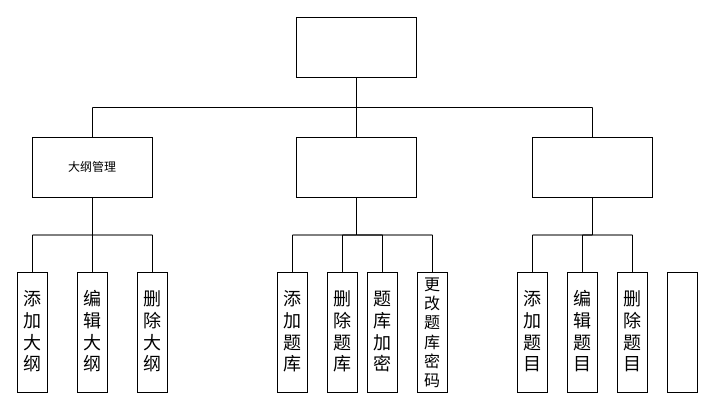
The diagram is 715 pixels wide and 410 high, and some of its shapes have lost their labels. Here are the shapes that lost their labels. From the top down, the centre of each, then its label:
(356,47): 题库相关功能
(356,167): 题库管理
(592,167): 题目管理
(682,332): 题目添加图片
